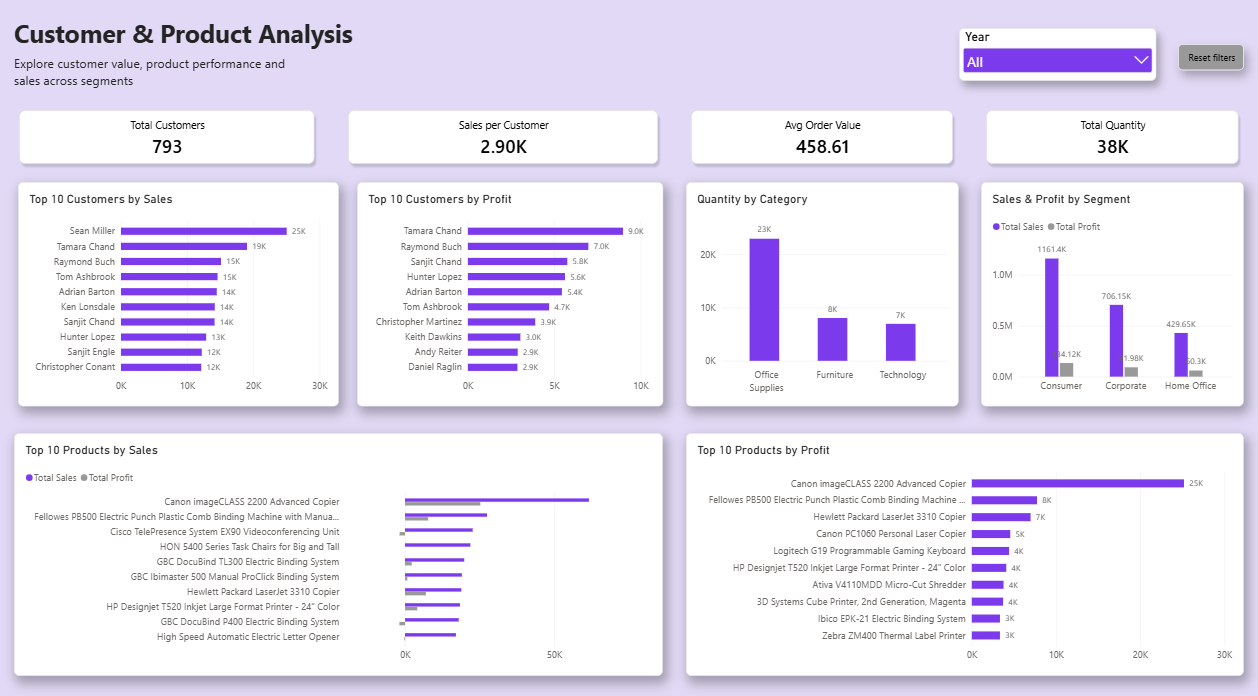

What the dashboard file says about the page in this screenshot:
{"tool":"powerbi","page":{"name":"Customer & Product Analysis","canvas":[1920,1080],"ordinal":2},"visuals":[{"type":"textbox","box":[24.8,30.6,526.7,80.2],"z":0},{"type":"slicer","fields":{"Values":["Calendar.Year"]},"box":[1456,46.7,299.1,80.2],"z":1000},{"type":"cardVisual","fields":{"Data":["FactSales.Total Customers"]},"box":[24.8,163.4,464,97.8],"z":2000},{"type":"cardVisual","fields":{"Data":["FactSales.Sales per Customer"]},"box":[522.8,163.4,485.8,97.8],"z":3000},{"type":"cardVisual","fields":{"Data":["FactSales.Avg Order Value"]},"box":[1042.7,163.4,412.9,97.8],"z":4000},{"type":"cardVisual","fields":{"Data":["FactSales.Total Quantity"]},"box":[1489.6,163.4,398.3,97.8],"z":5000},{"type":"clusteredBarChart","title":"Top 10 Customers by Sales","fields":{"Category":["DimCustomer.Customer Name"],"Y":["FactSales.Total Sales"]},"box":[522.3,280.1,485.8,339.9],"z":6000},{"type":"clusteredBarChart","title":"Top 10 Customers by Profit","fields":{"Category":["DimCustomer.Customer Name"],"Y":["FactSales.Total Profit"]},"box":[24.8,280.1,464,339.9],"z":7000},{"type":"clusteredColumnChart","title":"Sales & Profit by Segment","fields":{"Category":["DimCustomer.Segment"],"Y":["FactSales.Total Sales","FactSales.Total Profit"]},"box":[1489.6,280.1,398.3,354.5],"z":8000},{"type":"clusteredBarChart","title":"Top 10 Products by Sales","fields":{"Category":["DimProduct.Product Name"],"Y":["FactSales.Total Sales"]},"box":[24.8,660.9,983.3,367.7],"z":9000},{"type":"clusteredBarChart","title":"Top 10 Products by Profit","fields":{"Category":["DimProduct.Product Name"],"Y":["FactSales.Total Profit"]},"box":[1043.2,660.9,844.7,367.7],"z":10000},{"type":"clusteredColumnChart","title":"Quantity by Category","fields":{"Category":["DimProduct.Category"],"Y":["FactSales.Total Quantity"]},"box":[1043.2,280.1,412.9,339.9],"z":11000},{"type":"textbox","box":[24.8,87.5,420.2,75.9],"z":12000},{"type":"actionButton","box":[1787.2,71.5,100,40],"z":13000}]}

Visuals, with their boxes in screenshot pixels (x1, y1, x2, y2), scaled from the page's 1920x1080 canvas onto the 1258x696 screenshot:
textbox: bbox=(16, 20, 361, 71)
slicer - Calendar.Year: bbox=(954, 30, 1150, 82)
cardVisual - FactSales.Total Customers: bbox=(16, 105, 320, 168)
cardVisual - FactSales.Sales per Customer: bbox=(343, 105, 661, 168)
cardVisual - FactSales.Avg Order Value: bbox=(683, 105, 954, 168)
cardVisual - FactSales.Total Quantity: bbox=(976, 105, 1237, 168)
"Top 10 Customers by Sales" clusteredBarChart: bbox=(342, 181, 661, 400)
"Top 10 Customers by Profit" clusteredBarChart: bbox=(16, 181, 320, 400)
"Sales & Profit by Segment" clusteredColumnChart: bbox=(976, 181, 1237, 409)
"Top 10 Products by Sales" clusteredBarChart: bbox=(16, 426, 661, 663)
"Top 10 Products by Profit" clusteredBarChart: bbox=(684, 426, 1237, 663)
"Quantity by Category" clusteredColumnChart: bbox=(684, 181, 954, 400)
textbox: bbox=(16, 56, 292, 105)
actionButton: bbox=(1171, 46, 1237, 72)
